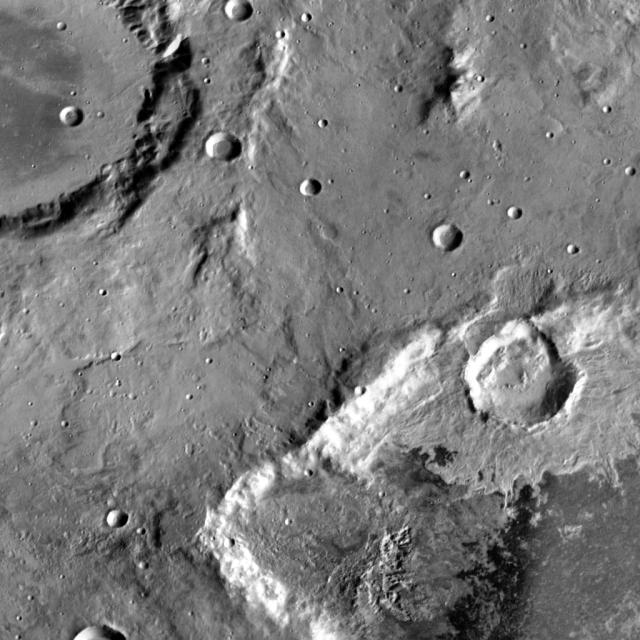crater: (290, 293, 640, 640), (0, 0, 188, 238), (205, 452, 389, 616), (460, 322, 570, 420), (488, 261, 548, 314), (201, 127, 237, 159), (429, 218, 459, 246), (220, 0, 248, 19), (56, 103, 78, 123), (294, 174, 316, 194), (102, 506, 123, 524), (503, 202, 518, 215), (318, 224, 332, 237), (190, 416, 202, 428), (562, 240, 576, 250), (622, 162, 632, 172), (350, 382, 360, 392), (298, 8, 308, 18), (315, 115, 324, 124), (218, 536, 228, 544), (50, 20, 60, 28), (271, 26, 281, 34), (598, 102, 608, 110), (135, 558, 144, 566), (194, 328, 203, 336), (300, 465, 309, 473), (456, 167, 466, 174), (132, 524, 140, 532), (124, 390, 132, 398), (106, 351, 115, 358), (391, 80, 398, 88), (198, 54, 205, 62), (198, 73, 206, 80), (473, 71, 481, 78), (489, 138, 497, 145), (490, 20, 498, 26), (102, 293, 110, 299), (64, 426, 72, 432), (192, 319, 200, 325), (227, 467, 234, 473)
